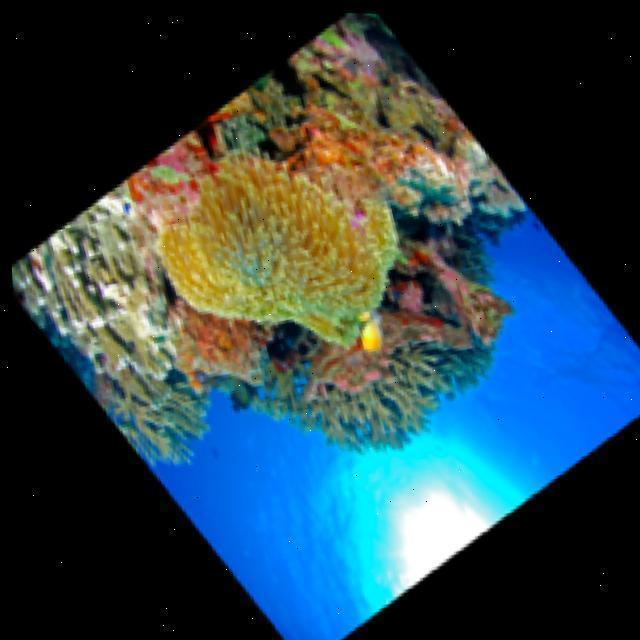Healthy Coral: (167, 166, 413, 376), (258, 256, 518, 436), (22, 207, 183, 403), (124, 284, 280, 417)
